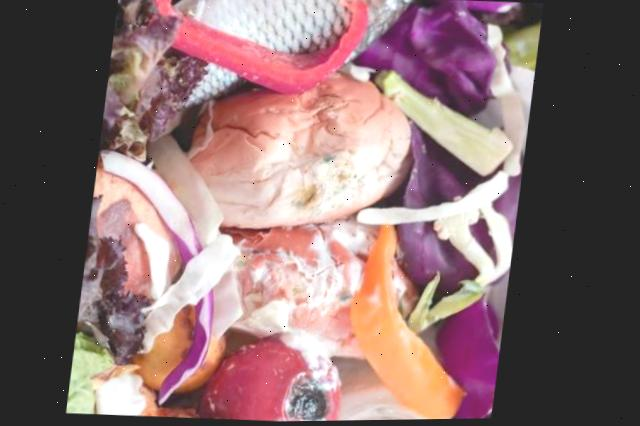Garbage: (72, 0, 541, 422)
Plastic_bottle: (339, 359, 434, 422)
